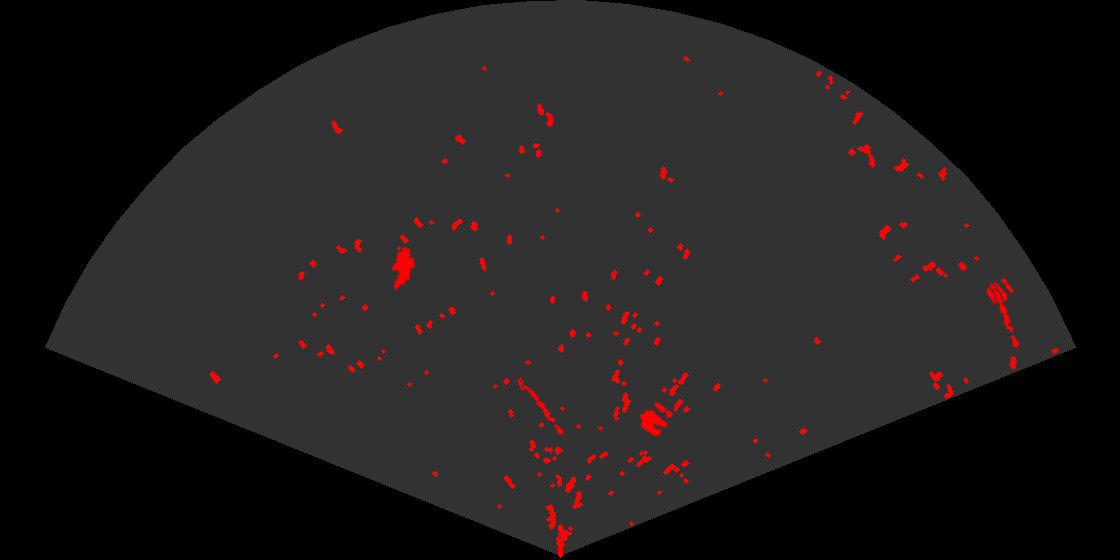AUV: (390, 245, 417, 292)
ball: (638, 400, 675, 438), (985, 276, 1015, 306)
chain: (519, 377, 568, 438), (988, 280, 1022, 351)
